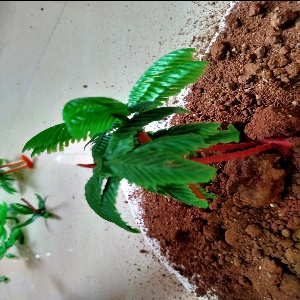plant: (38, 53, 296, 229)
